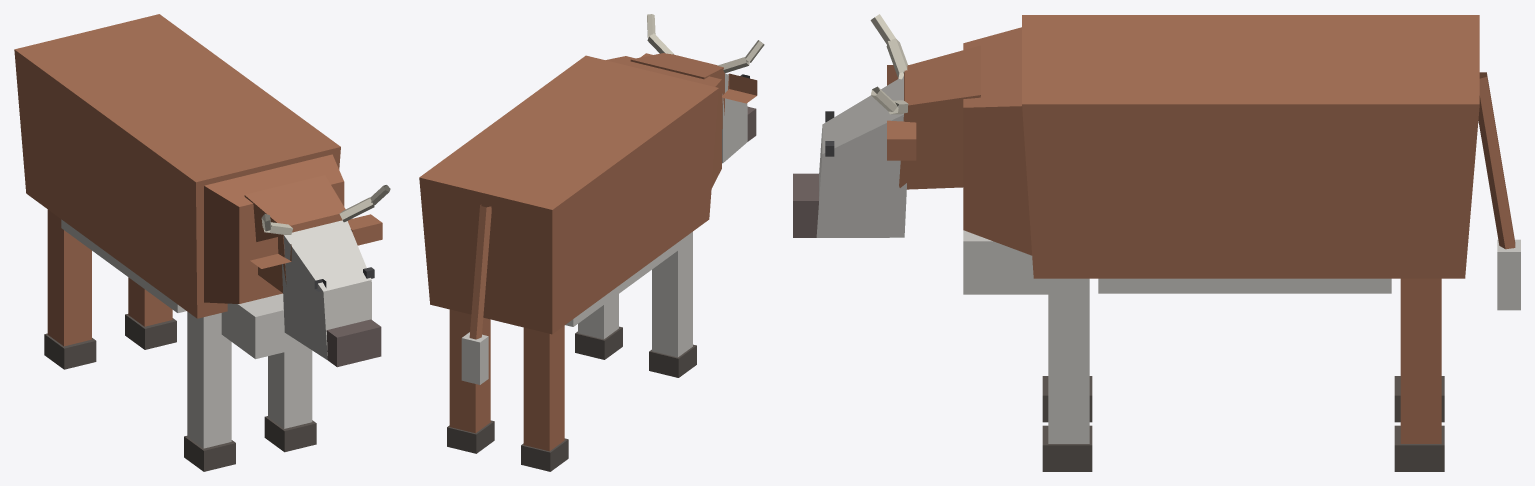
The model's file is cow_hereford.glb.
The picture shows the model from 3 angles, left to right: view 1: azimuth 30°, elevation 25°; view 2: azimuth 150°, elevation 25°; view 3: azimuth 270°, elevation 25°; orthographic projection. The views are drawn at different scales.
Visible parts, largest first — view 1: cow_hereford; view 2: cow_hereford; view 3: cow_hereford.
Part boxes in pixels (x1=…): cow_hereford: x1=14, y1=14, x2=390, y2=471; cow_hereford: x1=419, y1=14, x2=764, y2=471; cow_hereford: x1=793, y1=14, x2=1520, y2=471.
Bounding box in the file's own units: 0.72 × 1.45 × 2.48.
